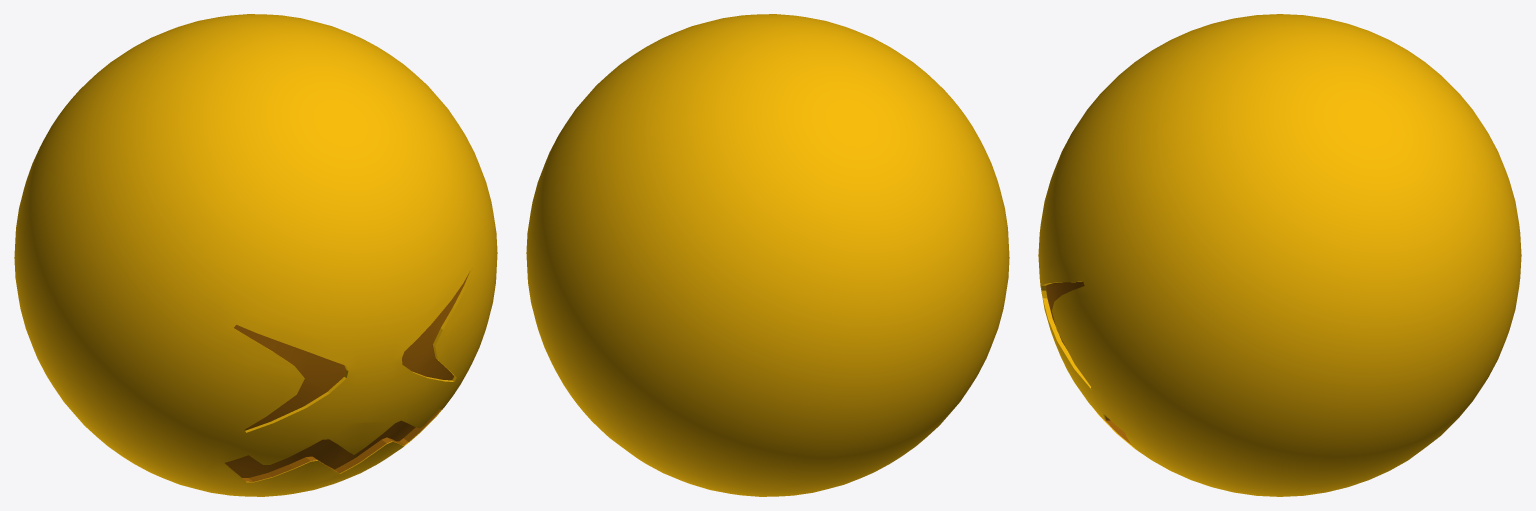
Rendered from confounded_emoji.glb.
3 views of the same model, side by side, from view 1: azimuth 30°, elevation 25°; view 2: azimuth 150°, elevation 25°; view 3: azimuth 270°, elevation 25° (orthographic).
Parts seen in each view (by area): view 1: Apple Confounded Face; view 2: Apple Confounded Face; view 3: Apple Confounded Face.
Boxes of the visible parts, <box> form: Apple Confounded Face: <box>14,14,497,496</box>; Apple Confounded Face: <box>526,14,1009,496</box>; Apple Confounded Face: <box>1038,14,1521,496</box>.
Bounding box in the file's own units: 0.024 × 0.024 × 0.024.
